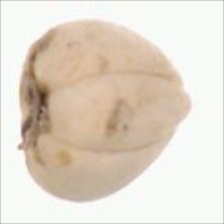L5: (48, 69, 195, 151), (15, 42, 51, 156), (167, 62, 194, 148)
L6: (17, 14, 195, 206)
